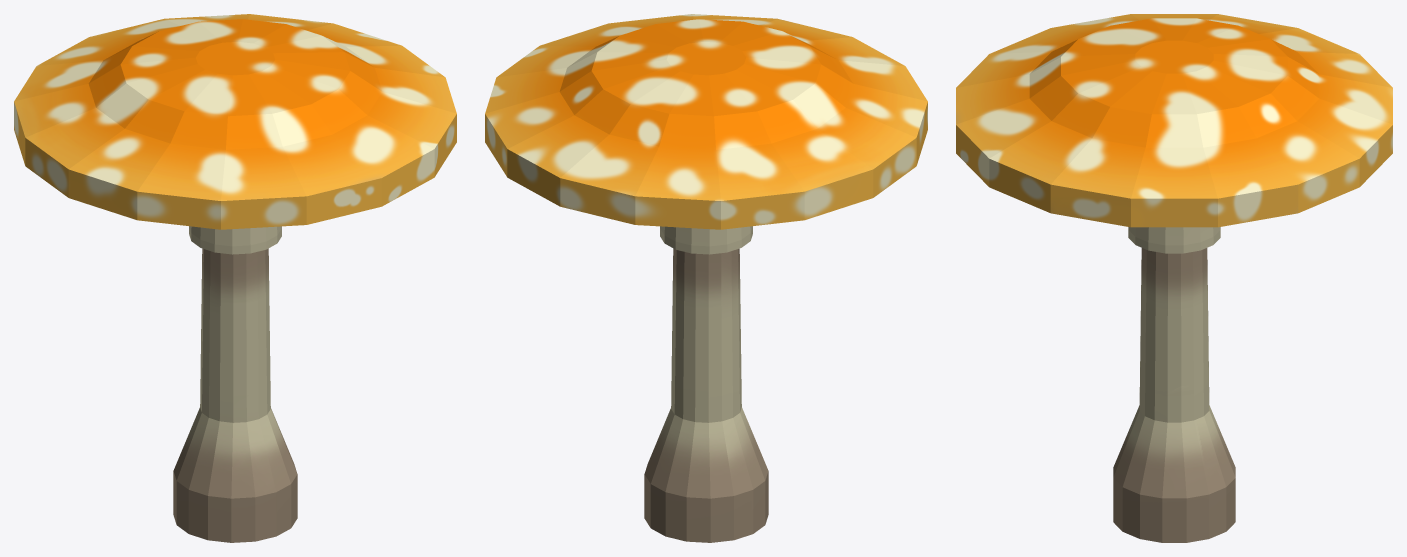
The model's file is amanita.fbx.
The picture shows the model from 3 angles, left to right: view 1: azimuth 30°, elevation 25°; view 2: azimuth 150°, elevation 25°; view 3: azimuth 270°, elevation 25°; orthographic projection.
Visible parts, largest first — view 1: Cylinder; view 2: Cylinder; view 3: Cylinder.
Part boxes in pixels (x1=…): Cylinder: x1=14, y1=14, x2=456, y2=542; Cylinder: x1=485, y1=14, x2=927, y2=542; Cylinder: x1=956, y1=14, x2=1392, y2=542.
Size of the model in its own units: 1675 by 1945 by 1675.
1 material, 1 textured.
